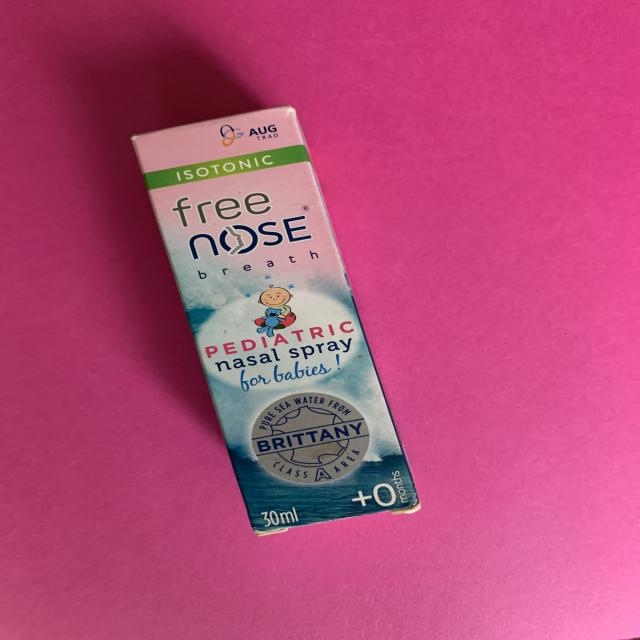Free Nose: (128, 101, 432, 537)
